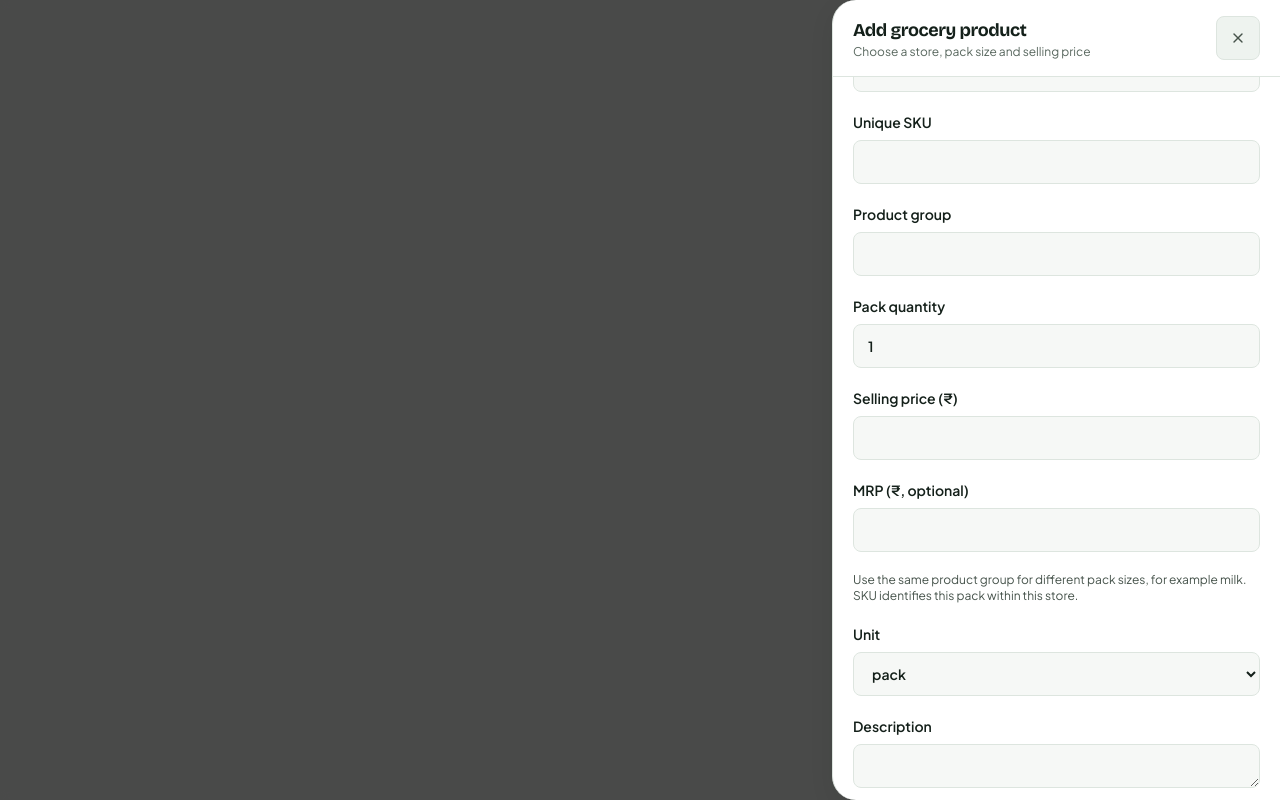
Scenario: rejects fractional paise before product creation
(page scrolled)
In the field labelled "Selling price (₹)": (1056, 438) [853,416,1260,460], type "12.345"
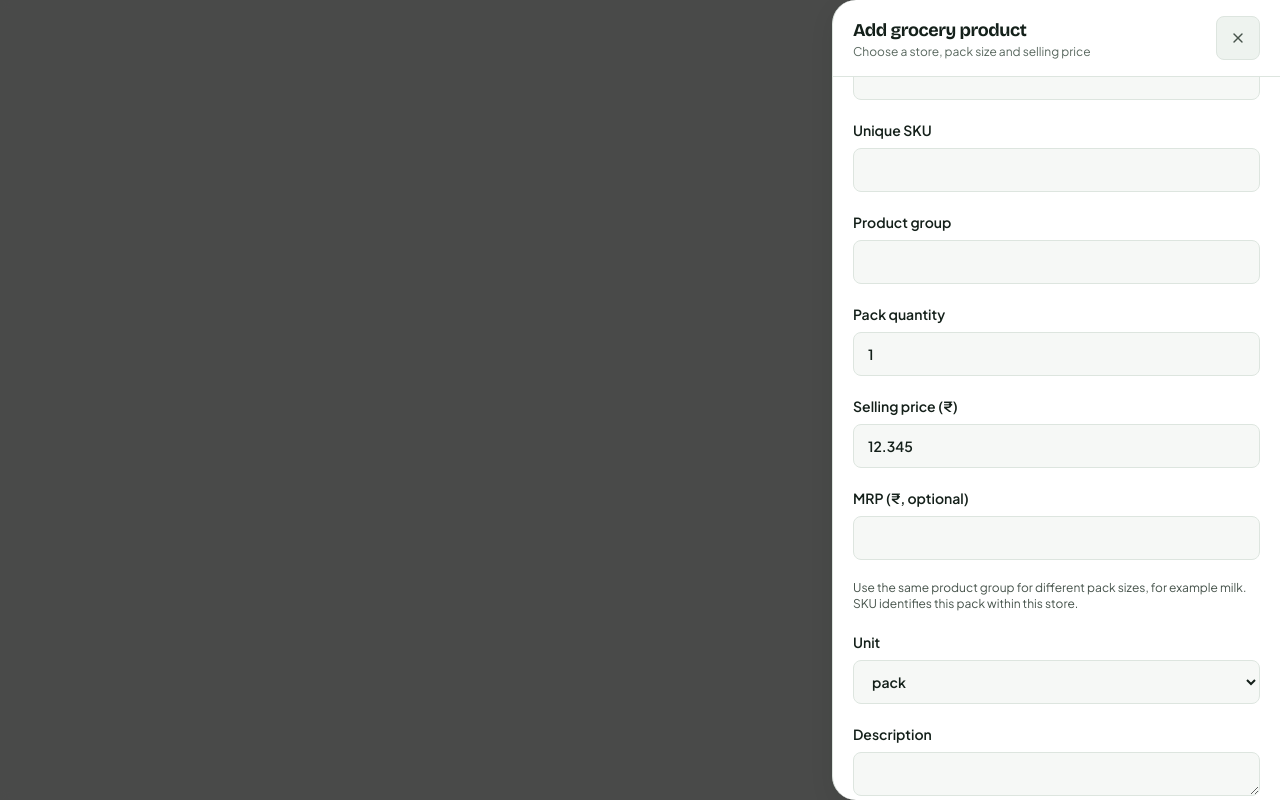
Submit the form named "Create product"
(page scrolled)
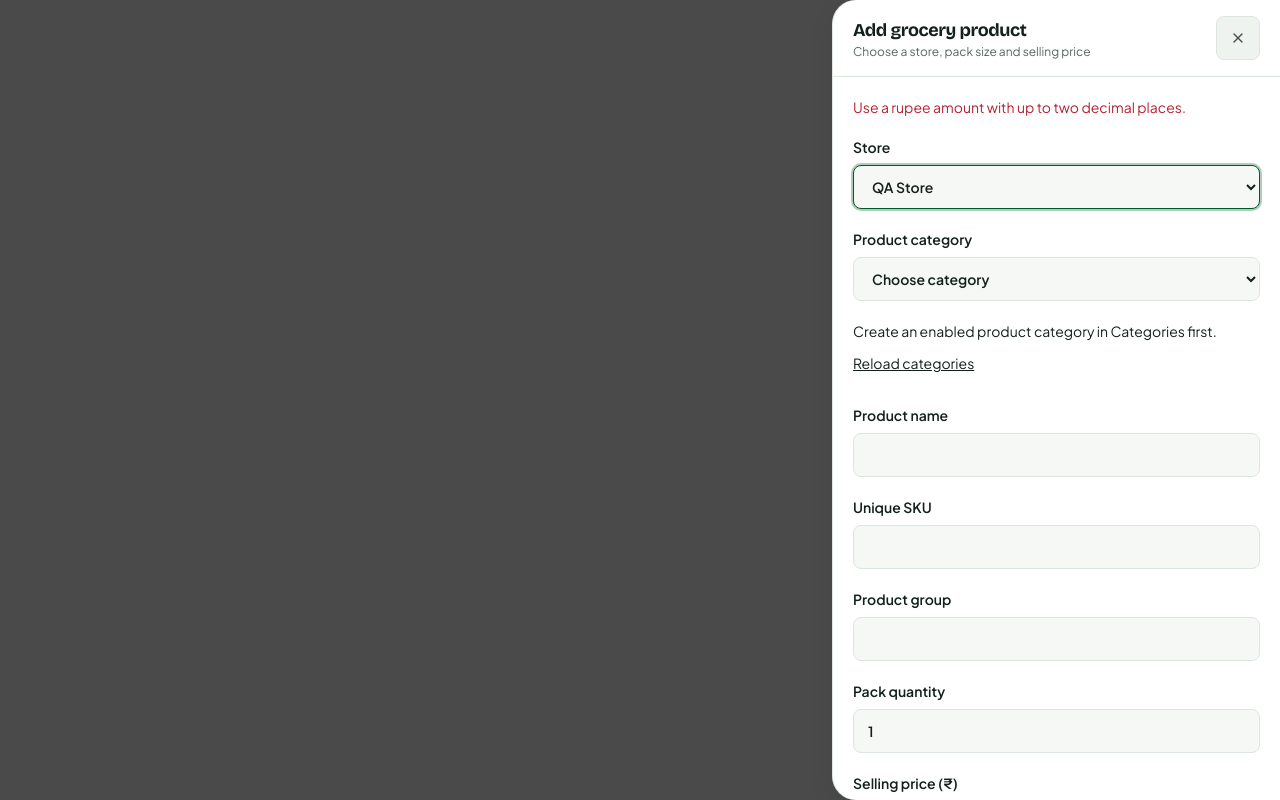
Expected: the message "Use a rupee amount with up to two decimal places." is shown, [853,98,1186,116]
